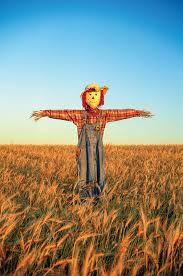person-like: (28, 81, 154, 199)
